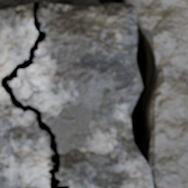brick: (10, 2, 151, 187), (0, 87, 52, 187), (0, 4, 36, 79)
crack: (0, 1, 68, 187), (130, 22, 160, 169), (97, 0, 126, 4), (151, 179, 155, 187)
